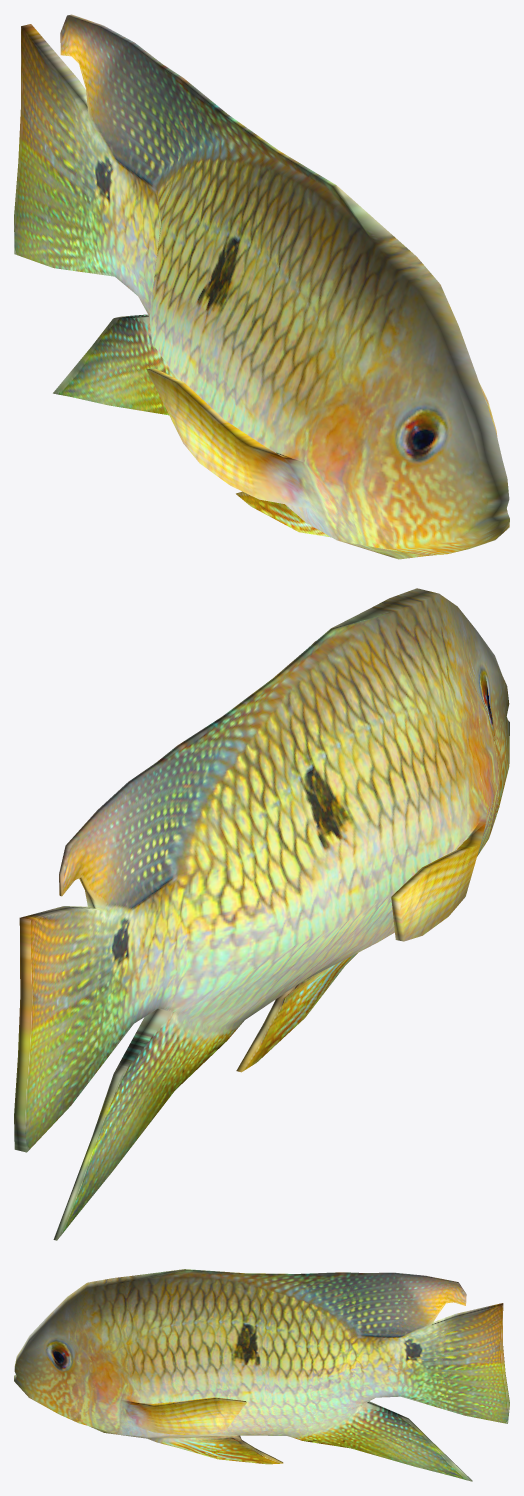
The model's file is fish3.glb.
3 views of the same model, one above another, from view 1: azimuth 30°, elevation 25°; view 2: azimuth 150°, elevation 25°; view 3: azimuth 270°, elevation 25° (orthographic). The views are drawn at different scales.
Visible parts, largest first — view 1: Asset3DLoader.sceneRoot; view 2: Asset3DLoader.sceneRoot; view 3: Asset3DLoader.sceneRoot.
Part boxes in pixels (<box>): Asset3DLoader.sceneRoot: <box>14,14,509,559</box>; Asset3DLoader.sceneRoot: <box>14,588,509,1240</box>; Asset3DLoader.sceneRoot: <box>14,1269,509,1481</box>.
Bounding box in the file's own units: 147 × 227 × 482.
1 material, 1 textured.
